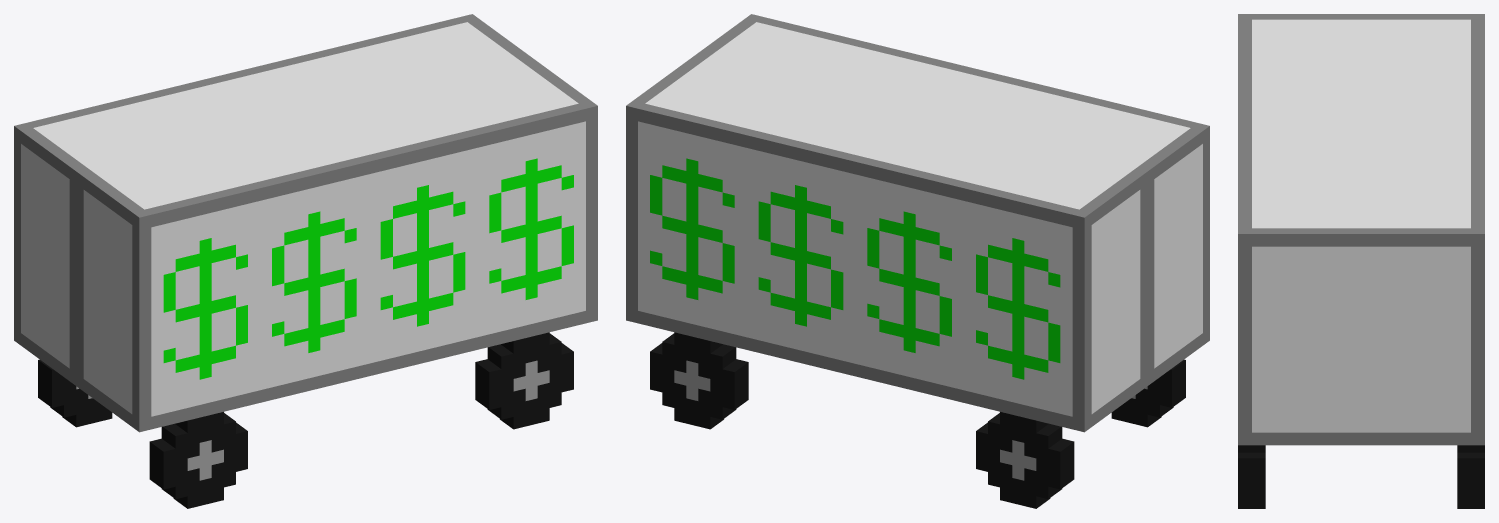
Rendered from container1_health4.obj.
3 views of the same model, side by side, from view 1: azimuth 30°, elevation 25°; view 2: azimuth 150°, elevation 25°; view 3: azimuth 270°, elevation 25° (orthographic).
Visible parts, largest first — view 1: container1_health4; view 2: container1_health4; view 3: container1_health4.
Boxes of the visible parts, box(x1,y1,x2,y2) form: container1_health4: box(14, 14, 597, 508); container1_health4: box(626, 14, 1209, 508); container1_health4: box(1238, 14, 1484, 508).
Size of the model in its own units: 38 by 24 by 18.
Materials: 1 (1 with a texture image).
